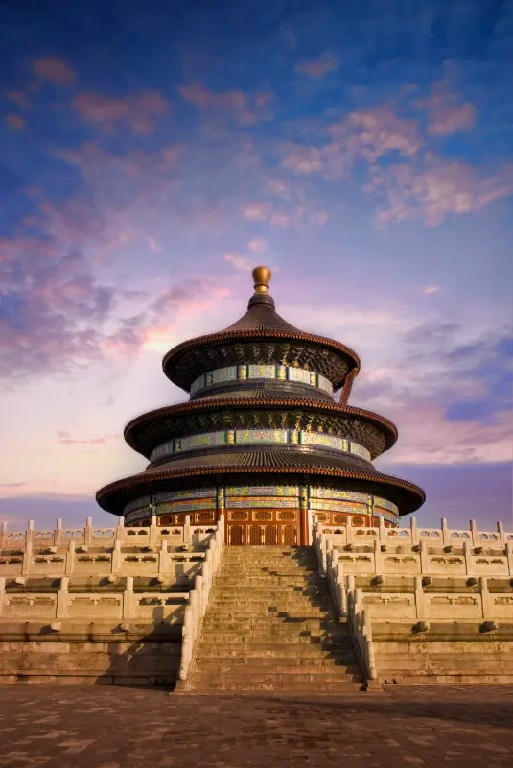Heaven: (96, 267, 428, 544)
